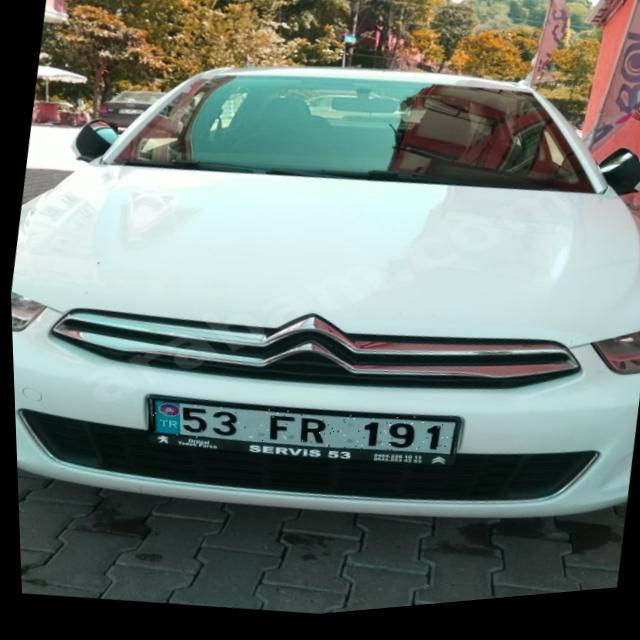license_plate: (142, 379, 454, 485)
